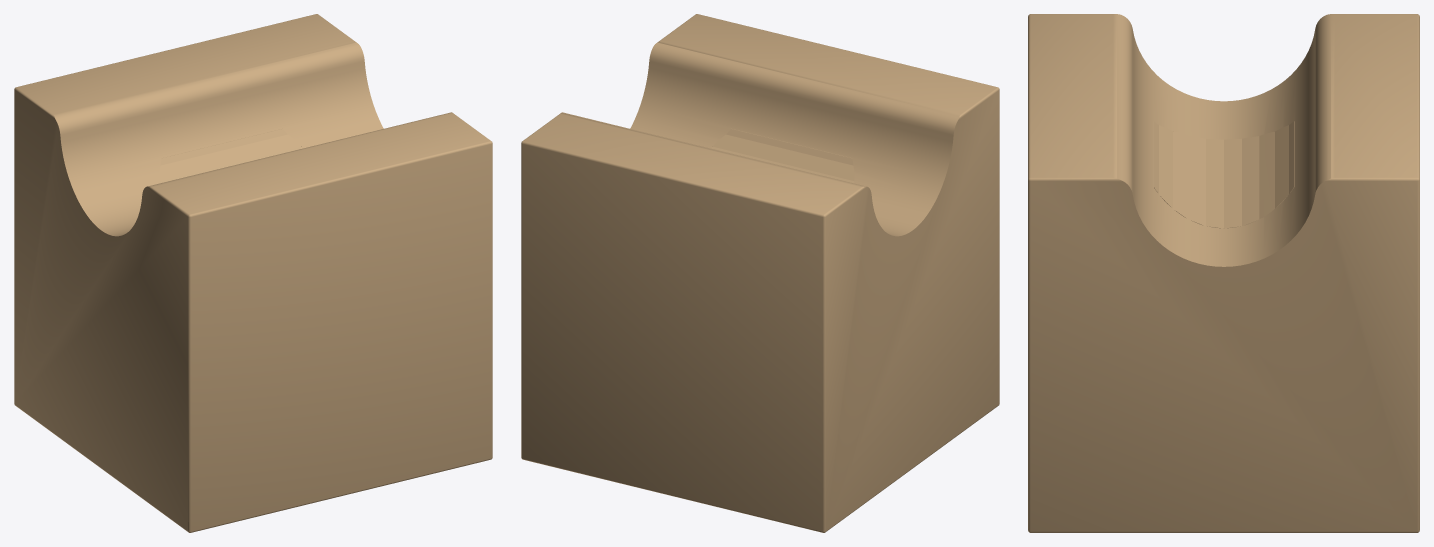
Rendered from mech_hole_oneway_l3.glb.
3 renders of one model, left to right at view 1: azimuth 30°, elevation 25°; view 2: azimuth 150°, elevation 25°; view 3: azimuth 270°, elevation 25°, orthographic. The views are drawn at different scales.
Parts seen in each view (by area): view 1: mech_hole_oneway_l3_lod0, anim_trapdoor_lod0; view 2: mech_hole_oneway_l3_lod0, anim_trapdoor_lod0; view 3: mech_hole_oneway_l3_lod0, anim_trapdoor_lod0.
Boxes of the visible parts, x1,y1,x2,y2 form: mech_hole_oneway_l3_lod0: (14,14,492,532); anim_trapdoor_lod0: (159,128,303,183); mech_hole_oneway_l3_lod0: (521,14,999,532); anim_trapdoor_lod0: (710,128,854,183); mech_hole_oneway_l3_lod0: (1028,14,1419,532); anim_trapdoor_lod0: (1153,121,1294,228).
Size of what is drawn, in the model's own units: 0.0596 by 0.0596 by 0.0596.
